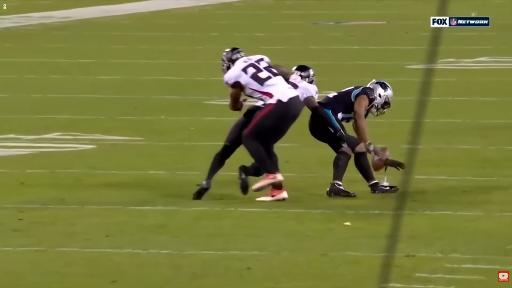Helmet: (368, 80, 393, 116), (222, 48, 244, 74), (292, 65, 315, 84)
Jersey: (224, 55, 297, 103), (319, 87, 375, 122), (288, 75, 318, 101), (289, 75, 318, 101)
Player: (222, 48, 303, 191), (309, 80, 398, 196), (275, 65, 339, 131), (239, 166, 262, 194)
